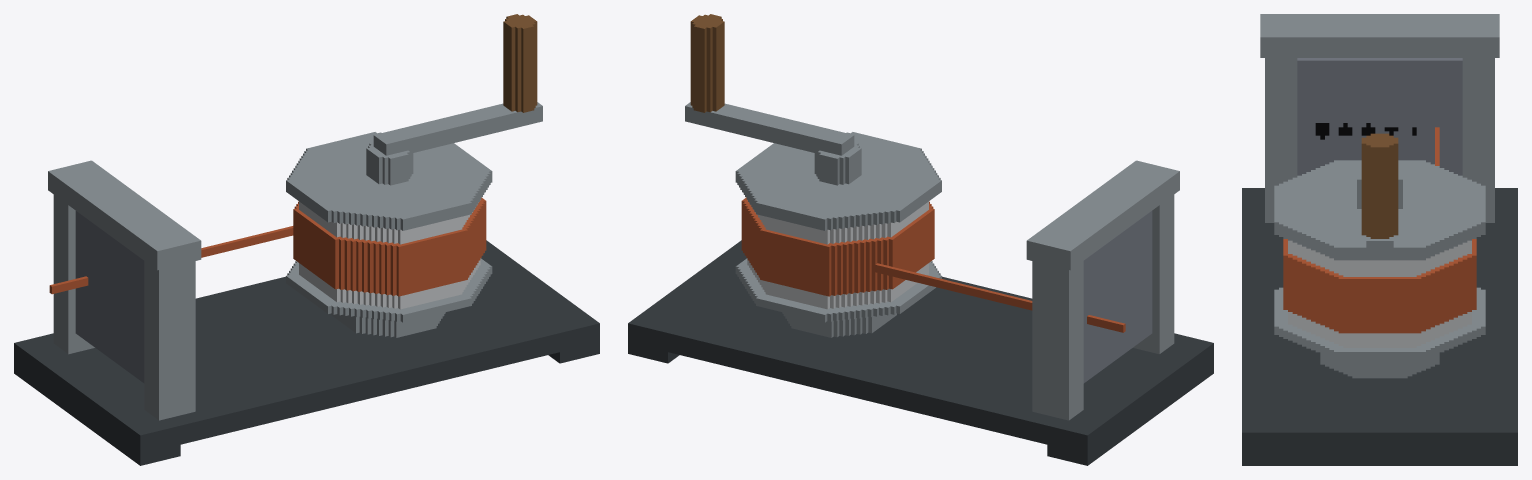
Rendered from wire_draw_machine.glb.
3 views of the same model, side by side, from view 1: azimuth 30°, elevation 25°; view 2: azimuth 150°, elevation 25°; view 3: azimuth 270°, elevation 25° (orthographic). The views are drawn at different scales.
Parts seen in each view (by area): view 1: wire_draw_machine:compound; view 2: wire_draw_machine:compound; view 3: wire_draw_machine:compound.
Boxes of the visible parts, box(x1,y1,x2,y2) form: wire_draw_machine:compound: box(14, 14, 599, 465); wire_draw_machine:compound: box(628, 14, 1213, 465); wire_draw_machine:compound: box(1242, 14, 1517, 465).
Bounding box in the file's own units: 0.504 × 0.304 × 0.24.
